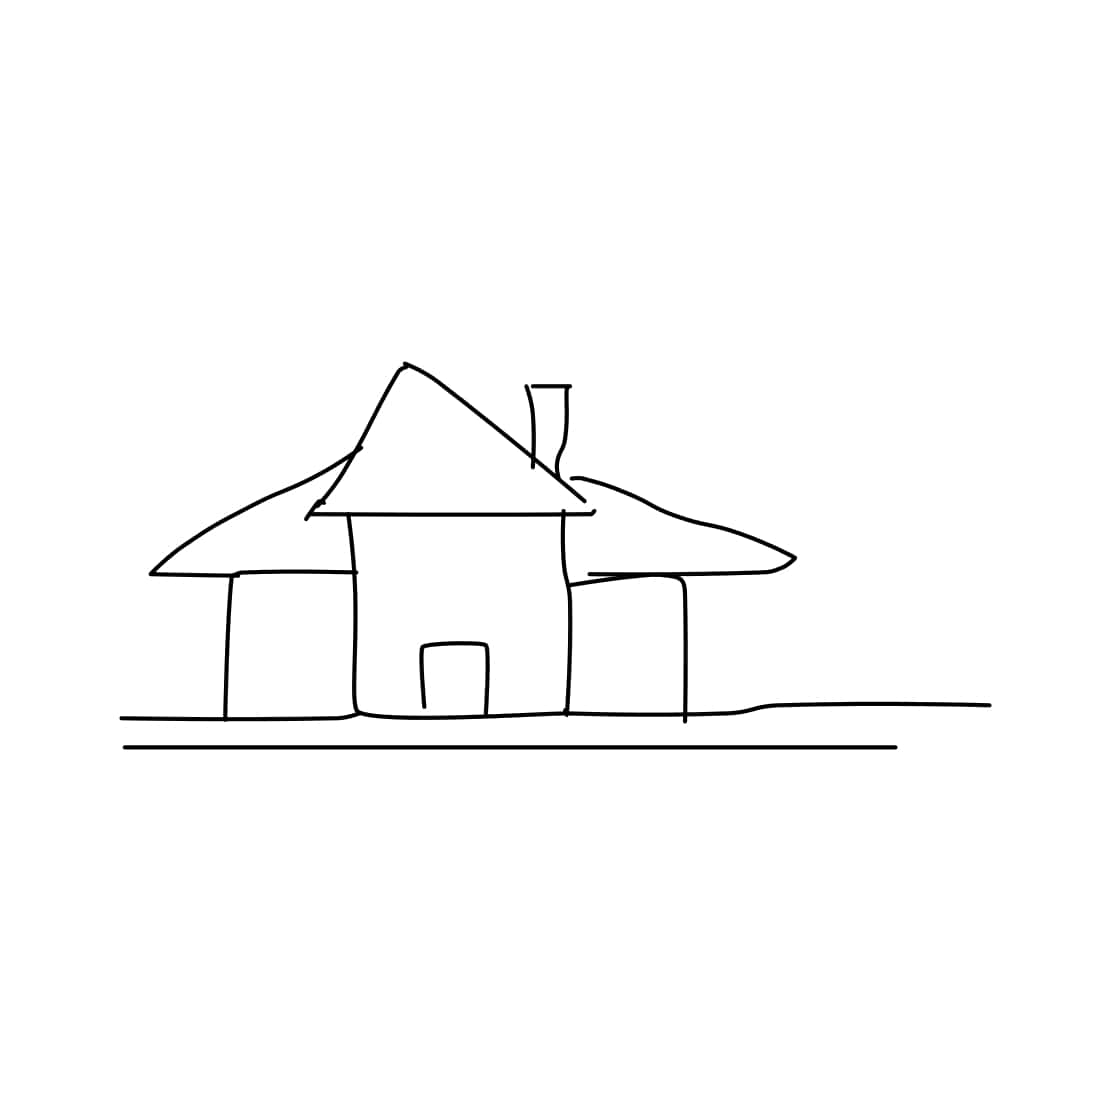House: (134, 334, 802, 766)
